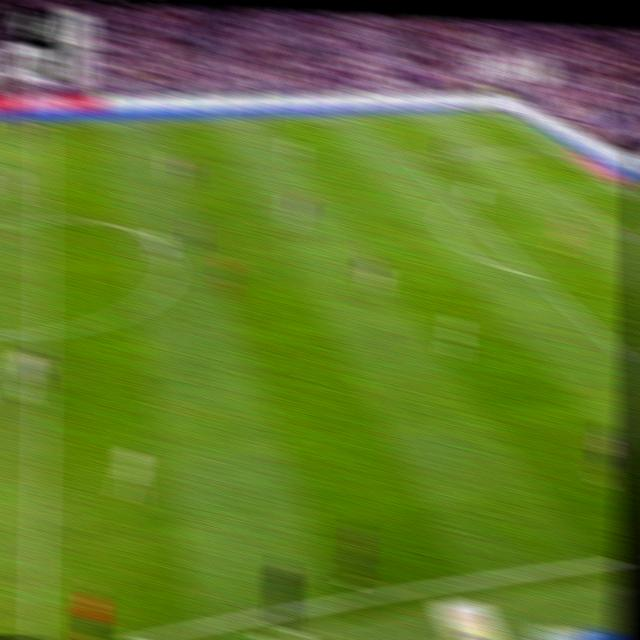bigarea_top_inner: (399, 148, 416, 164)
bottom_arc_area_intersection: (525, 265, 546, 284)
corner: (484, 105, 501, 117)
halfcircle_bottom: (31, 315, 54, 347)
halfcircle_top: (31, 204, 54, 233)
midline_top_intersection: (34, 118, 52, 132)
smallarea_top_inner: (551, 182, 568, 195)
top_arc_area_intersection: (448, 193, 466, 211)
